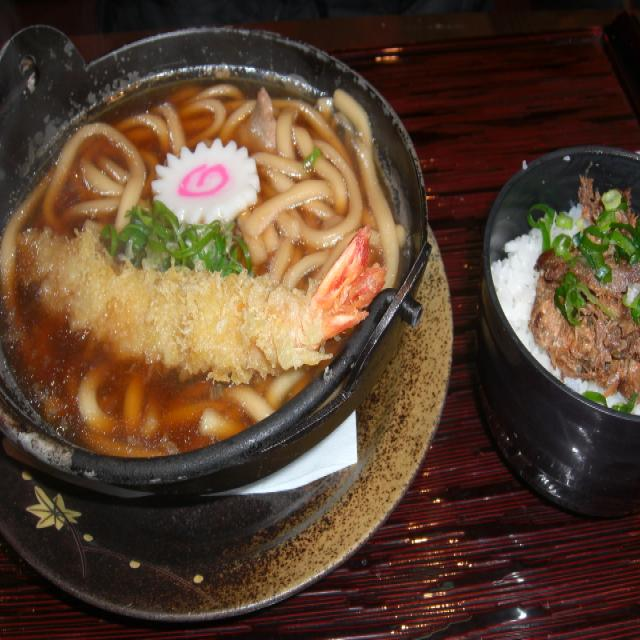面条主食: (0, 49, 418, 462)
